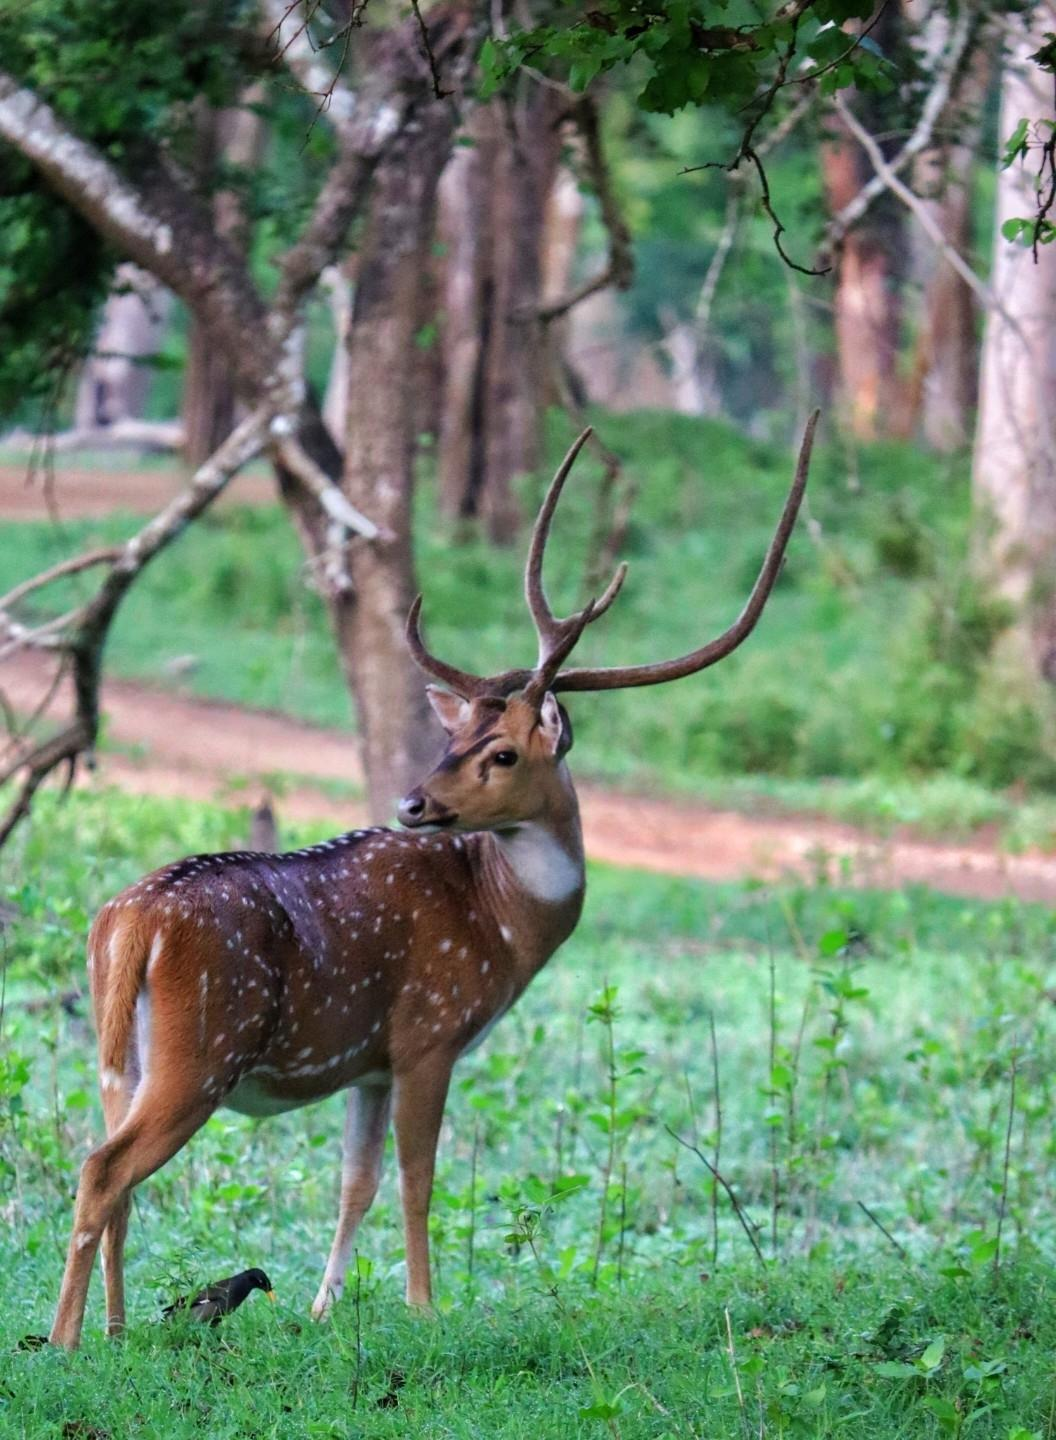Deer: (50, 413, 817, 1347)
